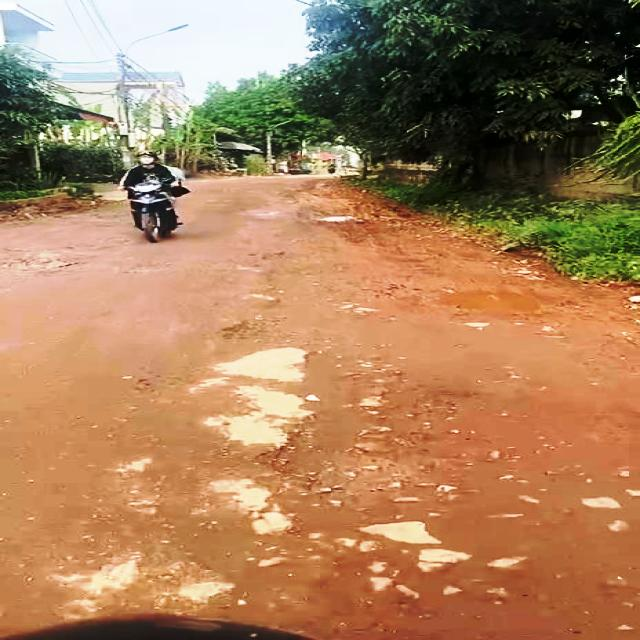pothole: (252, 417, 440, 505), (420, 285, 558, 317), (0, 252, 76, 281)
